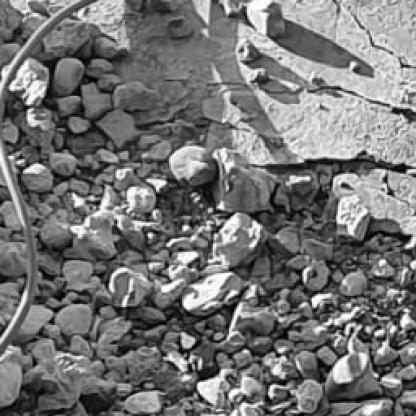cementitious_debris: (0, 4, 414, 411)
